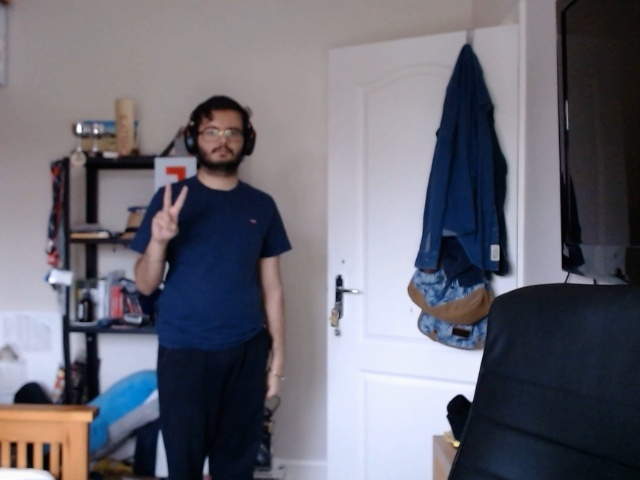Peace: (143, 179, 200, 252)
